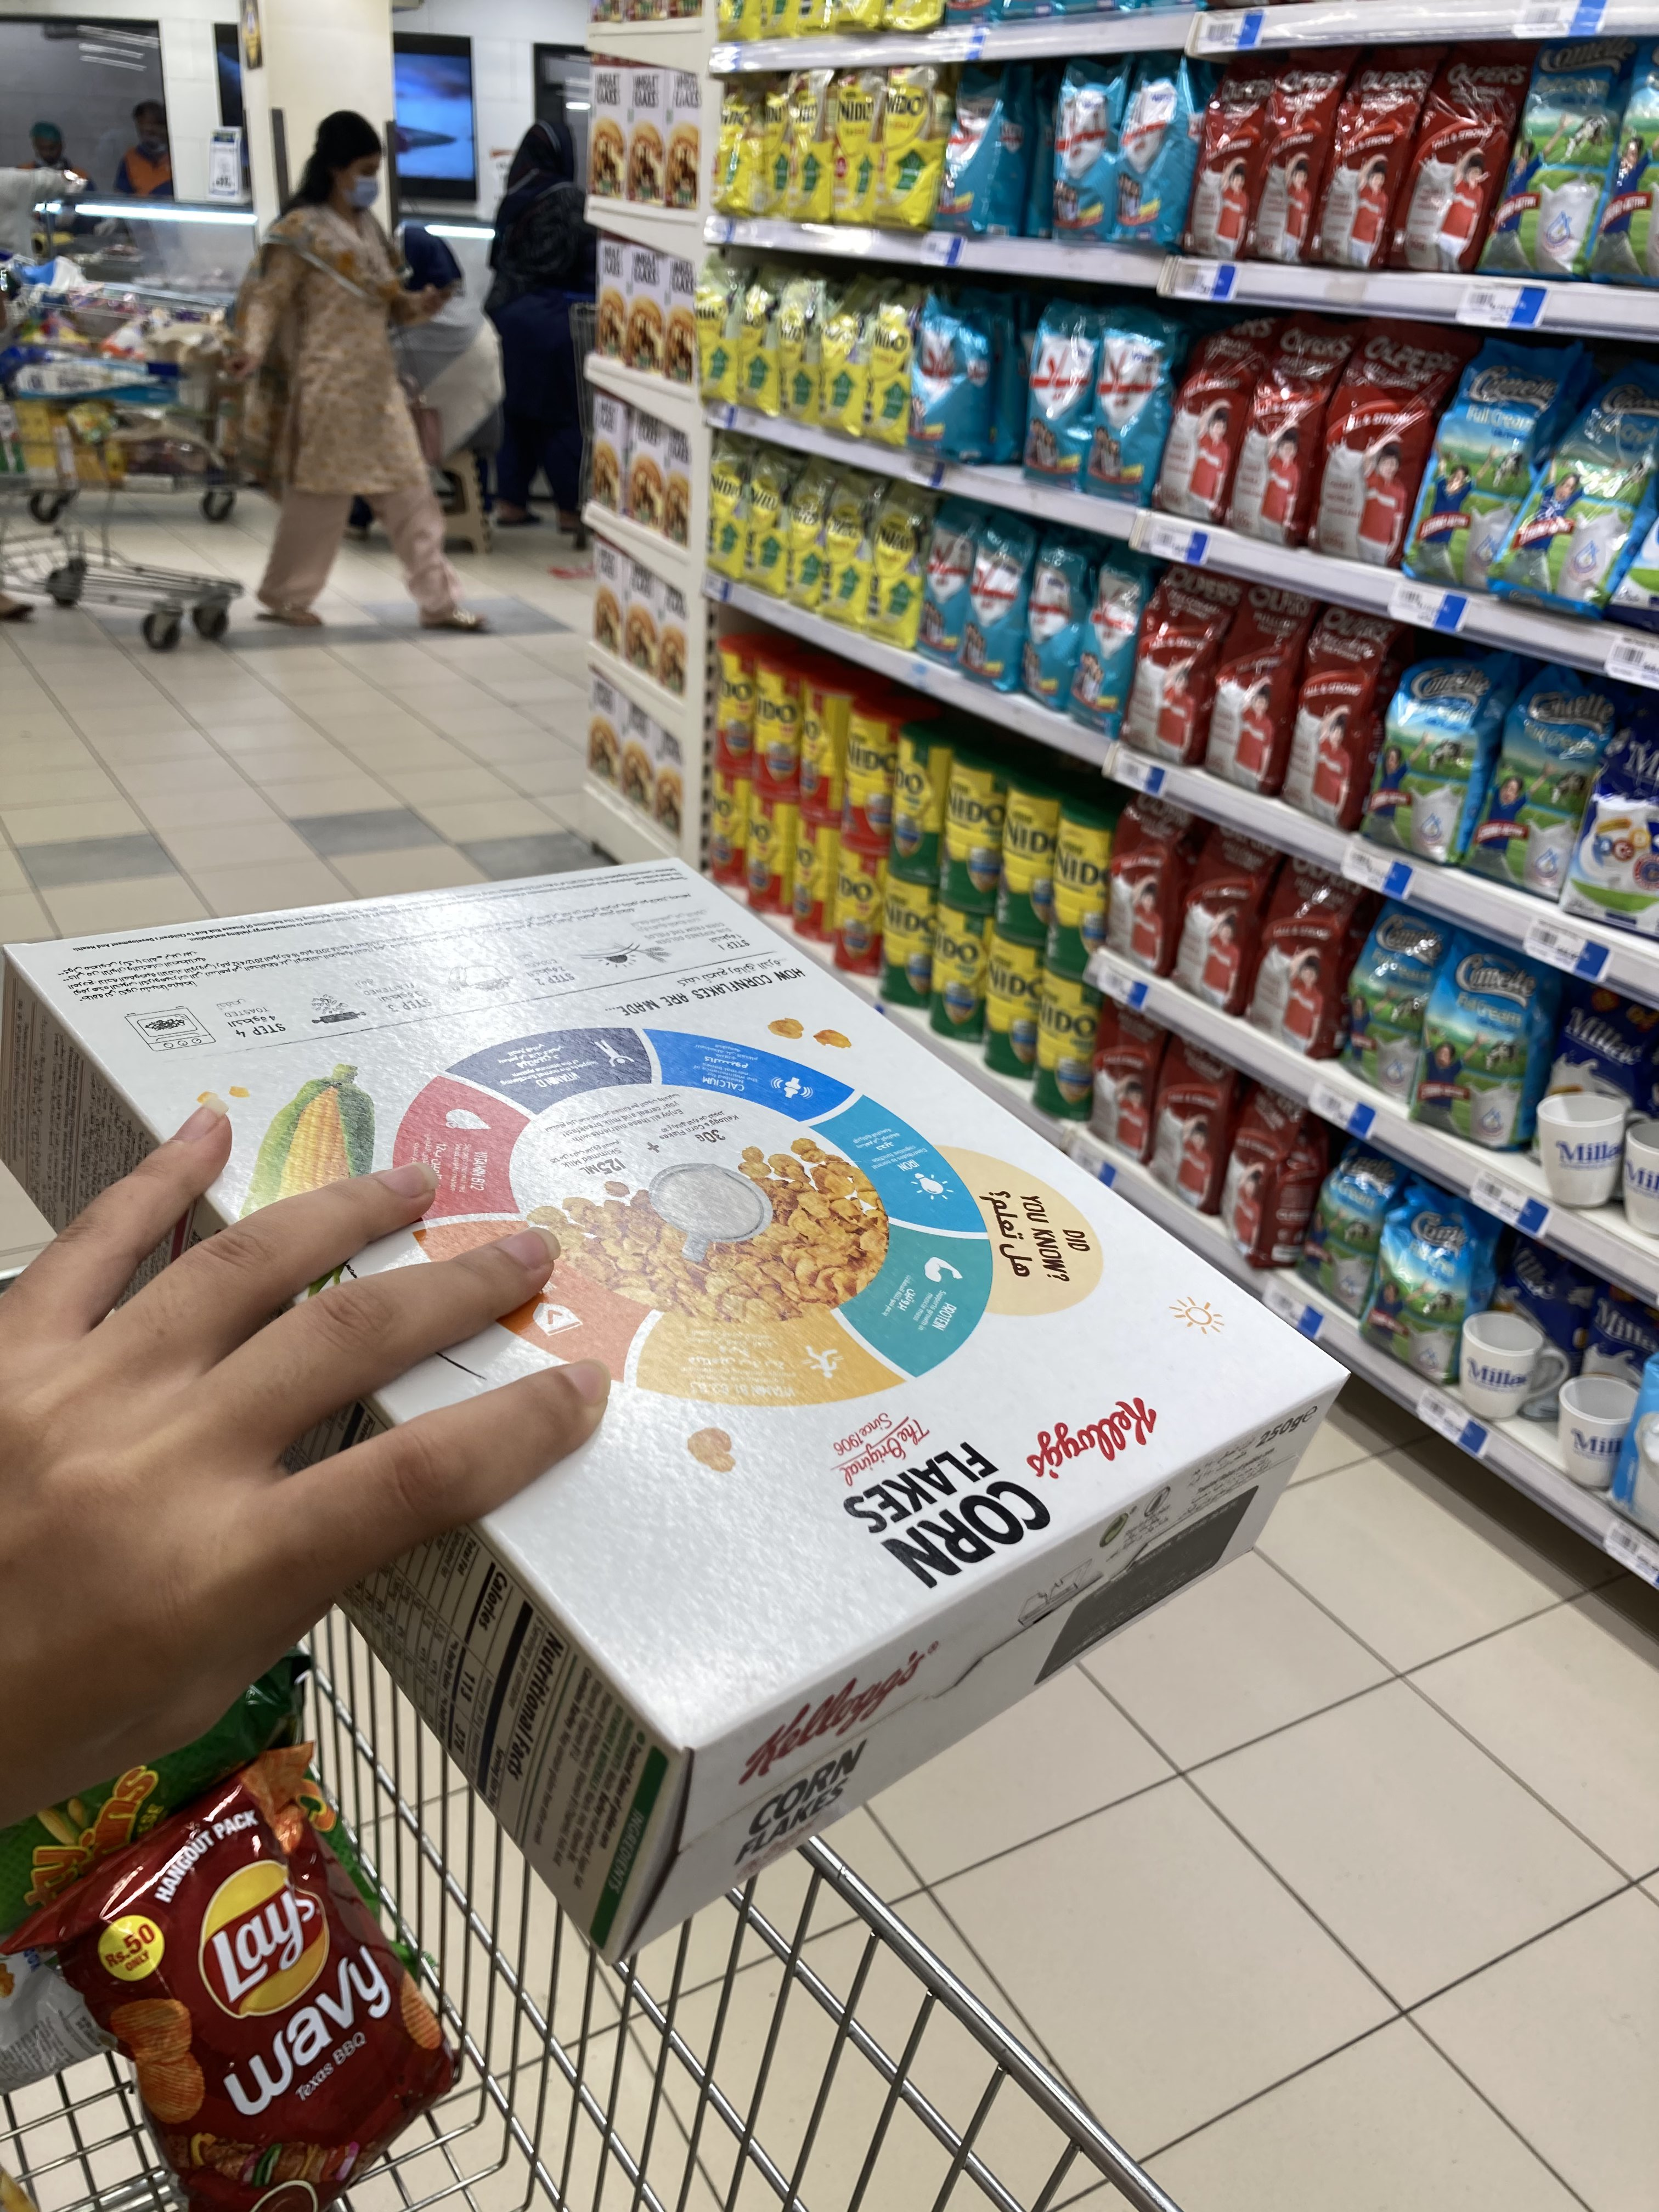Kellogg's Corn Flakes: (2, 852, 1356, 1959)
